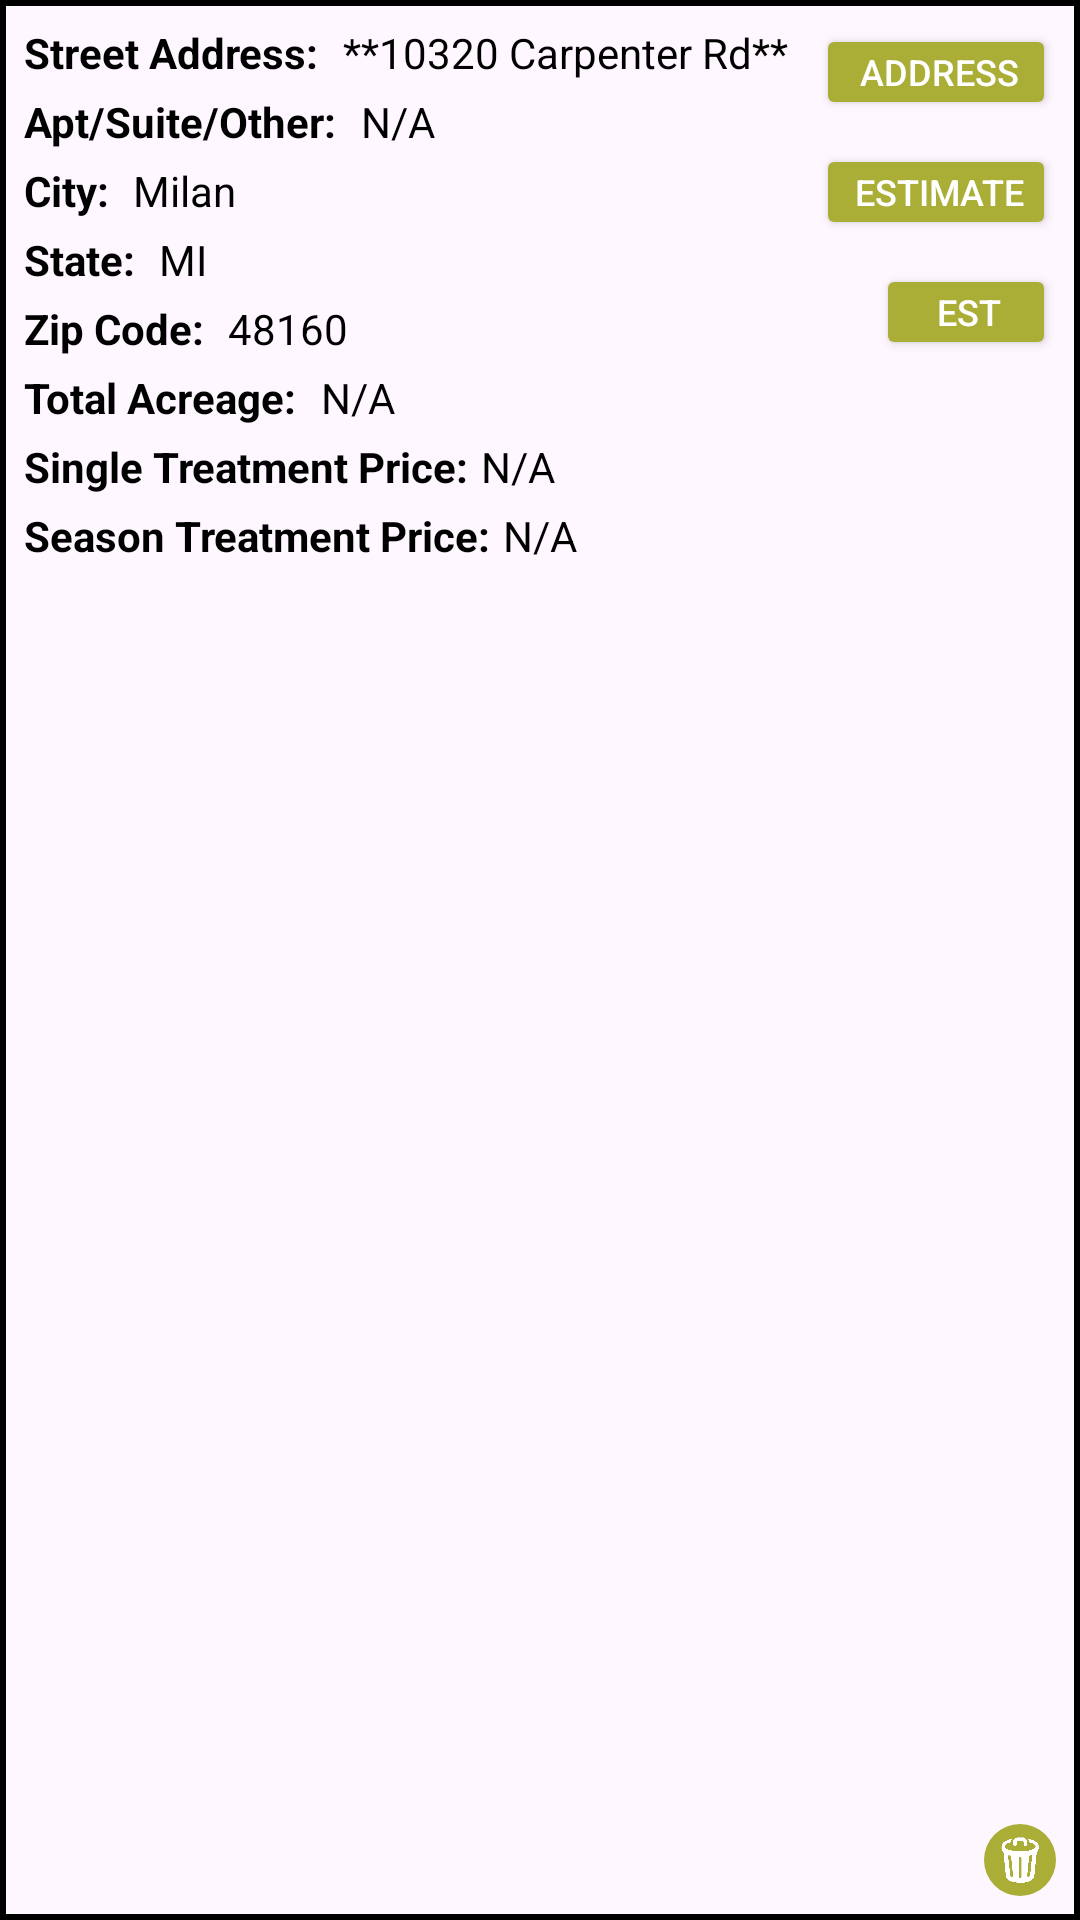

Screen size 1080×1920. Icon name, then its center in pixels as point (x, y):
trash can: point (1020, 1860)
